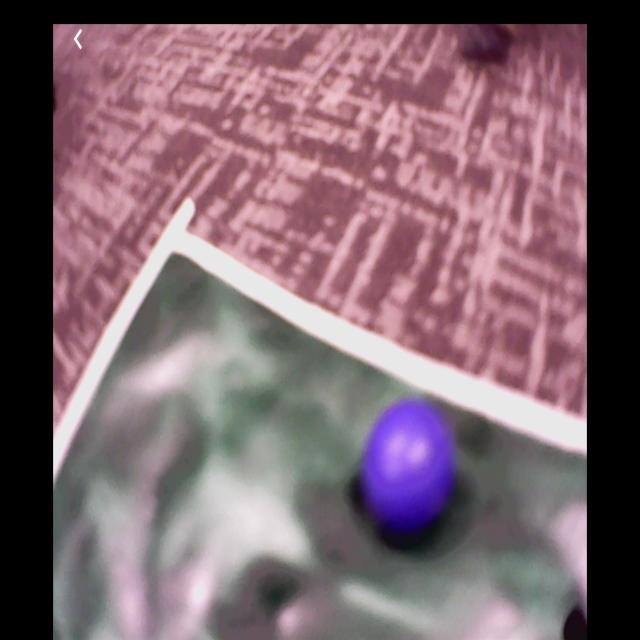ball: (361, 401, 452, 533)
